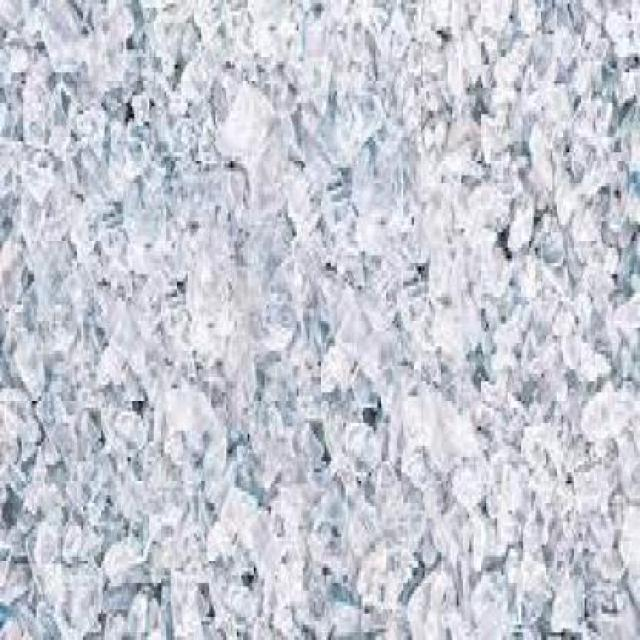kaca: (0, 0, 638, 637), (0, 0, 122, 637), (475, 0, 638, 472), (182, 165, 390, 526), (43, 20, 263, 298), (249, 374, 468, 637), (312, 165, 505, 462), (417, 0, 615, 217), (468, 385, 638, 637), (260, 72, 492, 255), (286, 0, 460, 198), (106, 304, 248, 544), (67, 282, 256, 462), (115, 411, 248, 606), (546, 46, 639, 297), (78, 601, 420, 637)
